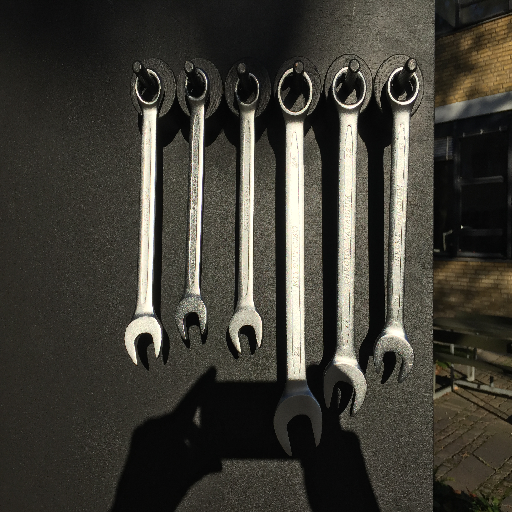bottom: (271, 390, 324, 459), (320, 355, 368, 418), (373, 326, 416, 385), (123, 315, 165, 368), (174, 293, 210, 344), (226, 309, 264, 354)
top: (275, 66, 316, 118), (331, 66, 368, 112), (385, 64, 421, 108), (133, 67, 167, 109), (232, 71, 263, 110), (182, 66, 211, 106)
